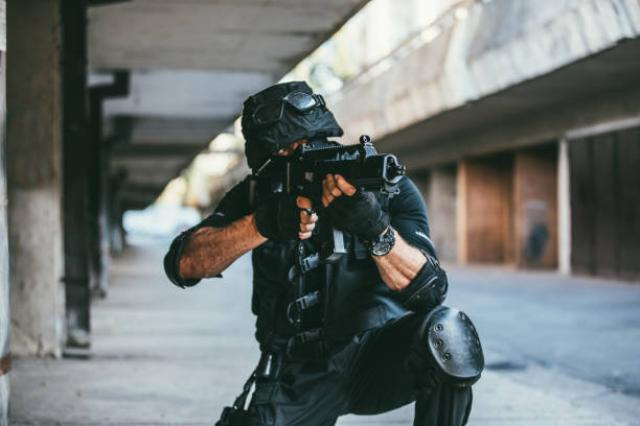other: (170, 88, 474, 418)
